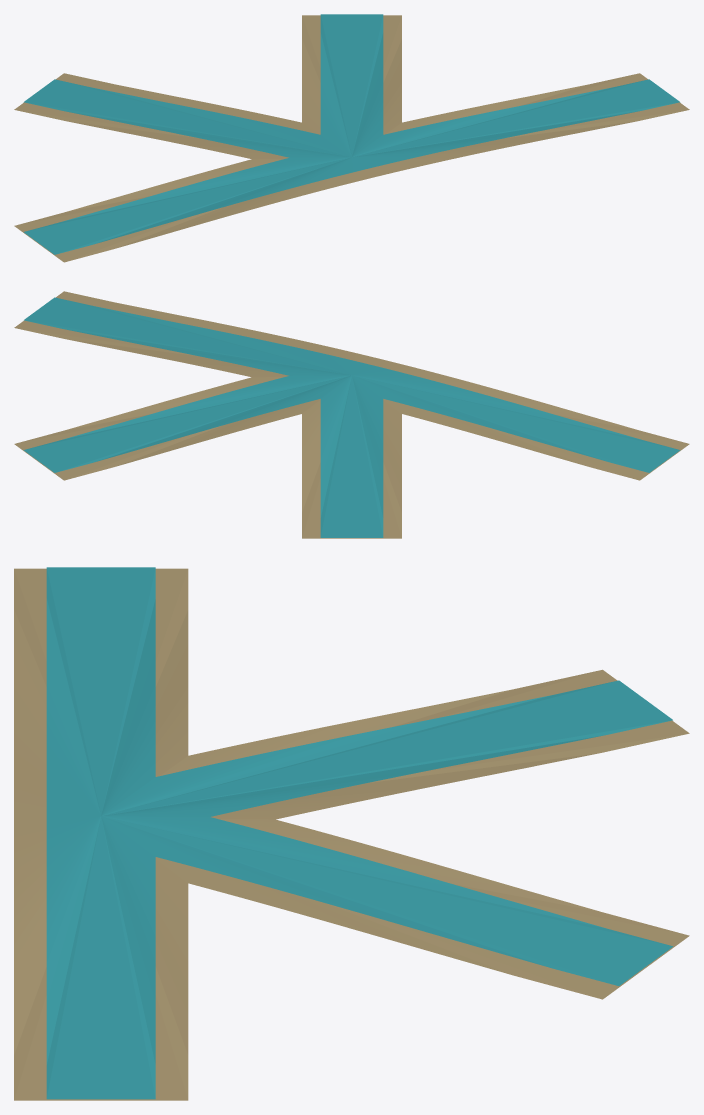
Rendered from RIVER_15.fbx.
The picture shows the model from 3 angles, top to bottom: view 1: azimuth 30°, elevation 25°; view 2: azimuth 150°, elevation 25°; view 3: azimuth 270°, elevation 25°; orthographic projection. The views are drawn at different scales.
Visible parts, largest first — view 1: Channel_surface.015, Channel_surface.014; view 2: Channel_surface.015, Channel_surface.014; view 3: Channel_surface.015, Channel_surface.014.
Boxes of the visible parts, <box> form: Channel_surface.015: <box>23,14,680,254</box>; Channel_surface.014: <box>14,15,689,262</box>; Channel_surface.015: <box>23,297,680,537</box>; Channel_surface.014: <box>14,291,689,538</box>; Channel_surface.015: <box>46,567,673,1099</box>; Channel_surface.014: <box>14,568,689,1100</box>.
Bounding box in the file's own units: 173 × 2.8 × 93.
